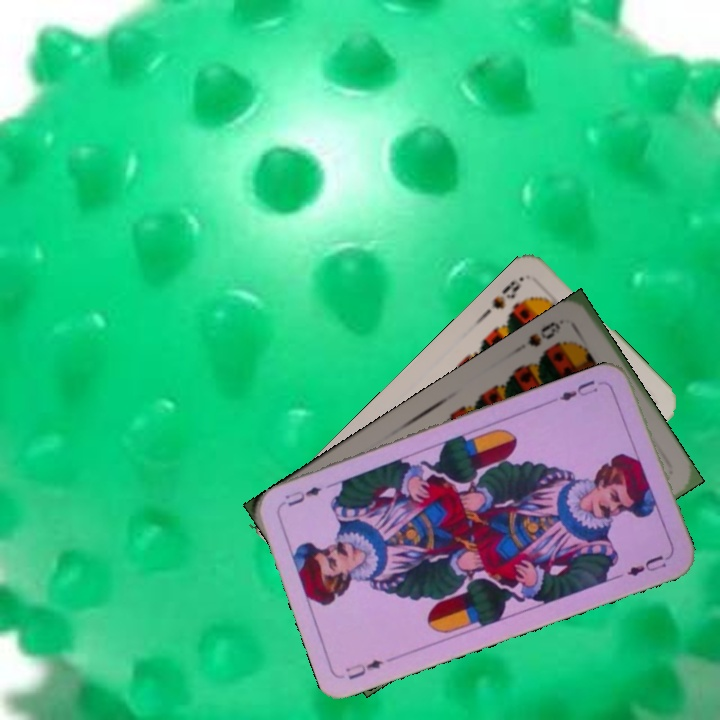EU: (555, 376, 601, 404), (341, 655, 386, 683)
S8: (488, 272, 527, 312), (524, 315, 567, 350)
